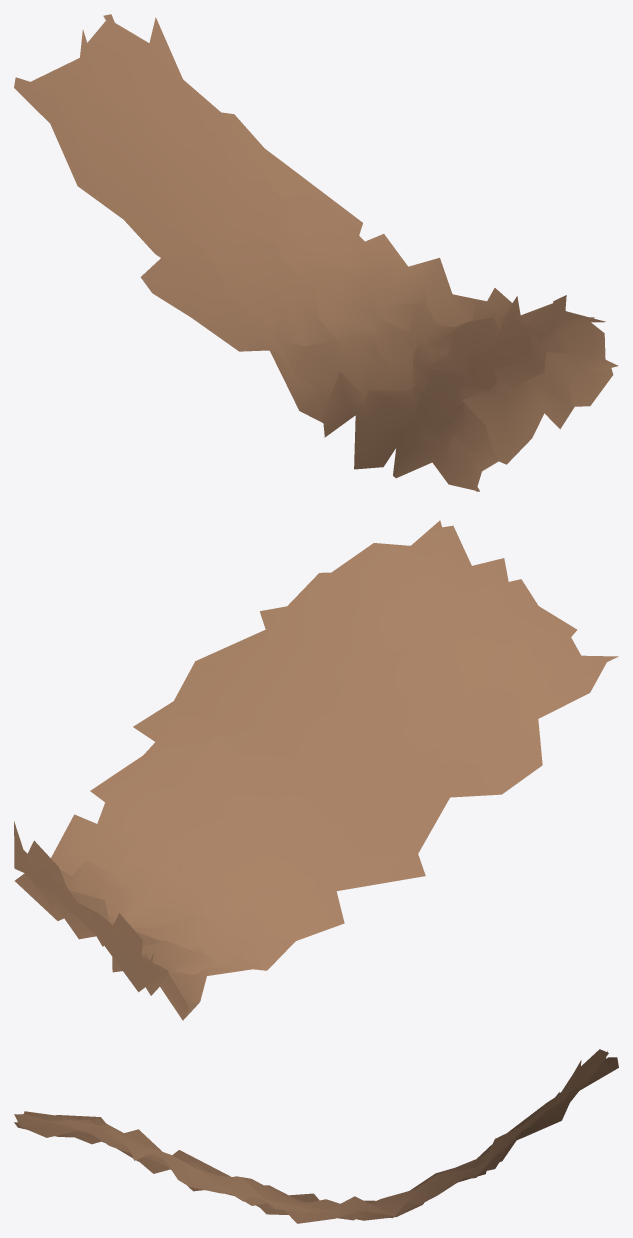
File: pottery_fragment_094.obj
3 renders of one model, top to bottom at view 1: azimuth 30°, elevation 25°; view 2: azimuth 150°, elevation 25°; view 3: azimuth 270°, elevation 25°, orthographic. The views are drawn at different scales.
Size of the model in its own units: 9.31 by 8.35 by 26.82.
